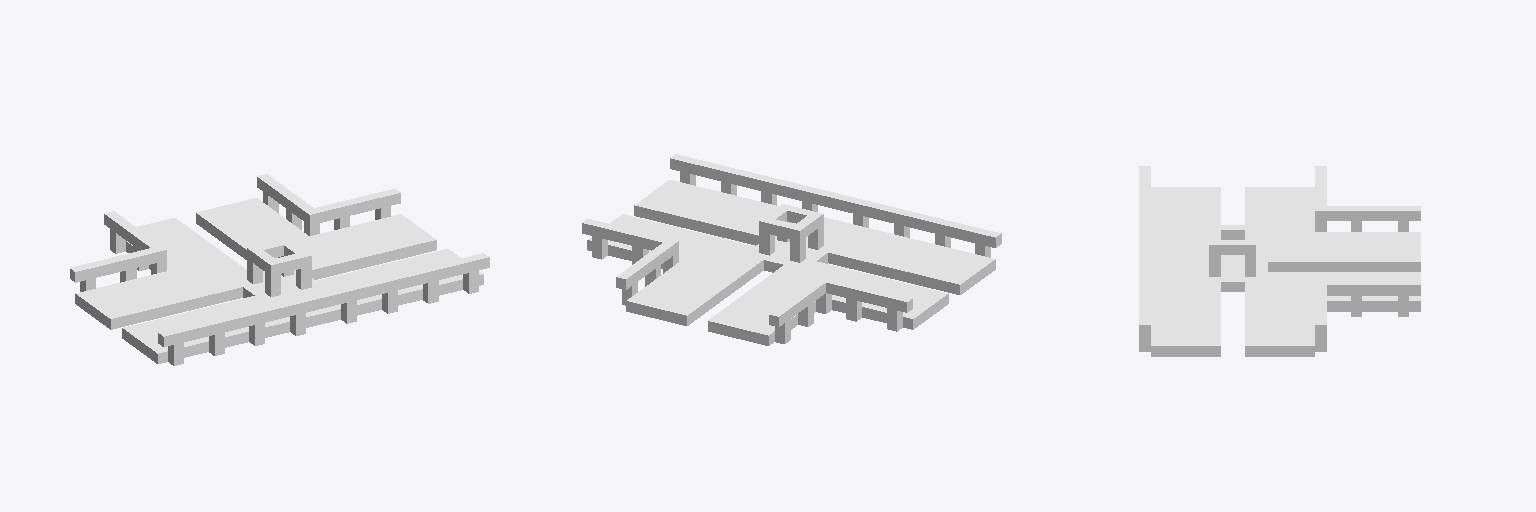
File: roadFork.obj
3 renders of one model, left to right at view 1: azimuth 30°, elevation 25°; view 2: azimuth 150°, elevation 25°; view 3: azimuth 270°, elevation 25°, orthographic.
Parts seen in each view (by area): view 1: object 1; view 2: object 1; view 3: object 1.
Boxes of the visible parts, x1=… form: object 1: x1=70, y1=174, x2=489, y2=365; object 1: x1=582, y1=154, x2=1001, y2=345; object 1: x1=1139, y1=166, x2=1420, y2=356.
Bounding box in the file's own units: 3.2 × 0.4 × 2.4.